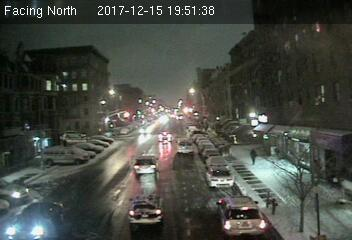car: (2, 197, 64, 240), (217, 196, 269, 235), (128, 193, 163, 226), (205, 164, 235, 190), (134, 153, 158, 178), (157, 131, 174, 142)
pedestrian: (250, 148, 259, 166)
truck: (175, 137, 195, 156)
